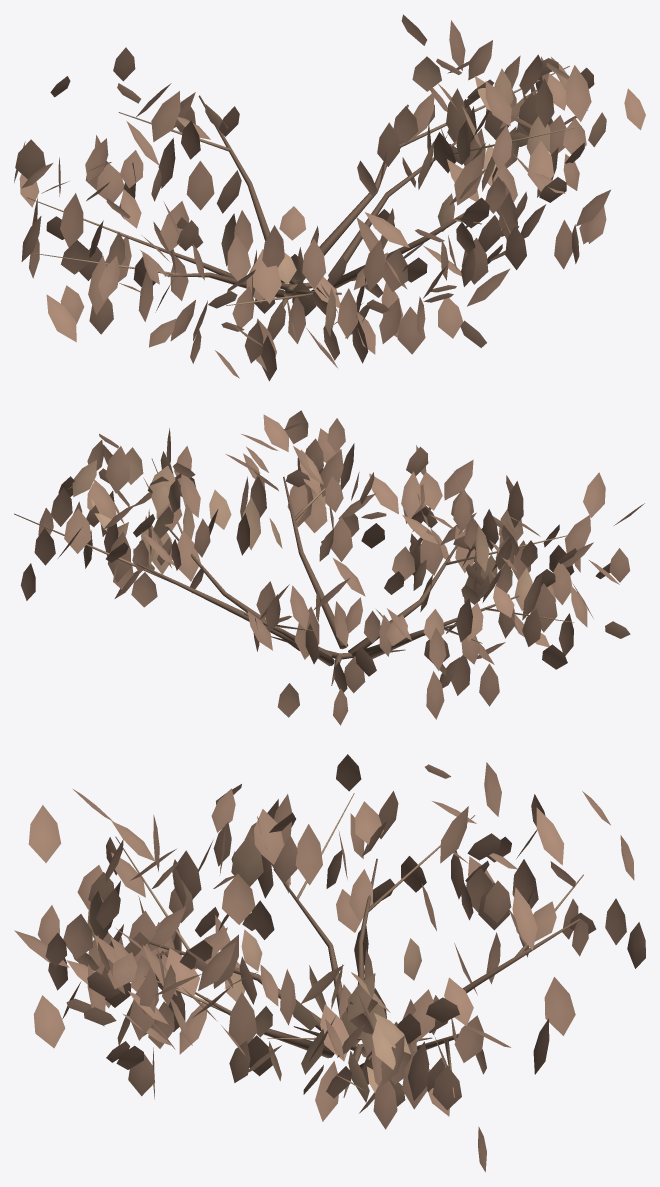
The model's file is bush_3d_04_copper.glb.
3 renders of one model, top to bottom at view 1: azimuth 30°, elevation 25°; view 2: azimuth 150°, elevation 25°; view 3: azimuth 270°, elevation 25°, orthographic. The views are drawn at different scales.
Parts seen in each view (by area): view 1: bush_3d_04_copper_foliage, bush_3d_04_copper_wood; view 2: bush_3d_04_copper_foliage, bush_3d_04_copper_wood; view 3: bush_3d_04_copper_foliage, bush_3d_04_copper_wood.
Boxes of the visible parts, bbox=[...] form: bush_3d_04_copper_foliage: bbox=[14, 14, 645, 381]; bush_3d_04_copper_wood: bbox=[26, 66, 581, 306]; bush_3d_04_copper_foliage: bbox=[20, 410, 644, 725]; bush_3d_04_copper_wood: bbox=[14, 458, 574, 685]; bush_3d_04_copper_foliage: bbox=[14, 754, 645, 1172]; bush_3d_04_copper_wood: bbox=[115, 793, 583, 1098].
Size of the model in its own units: 2.66 by 0.775 by 2.15.
